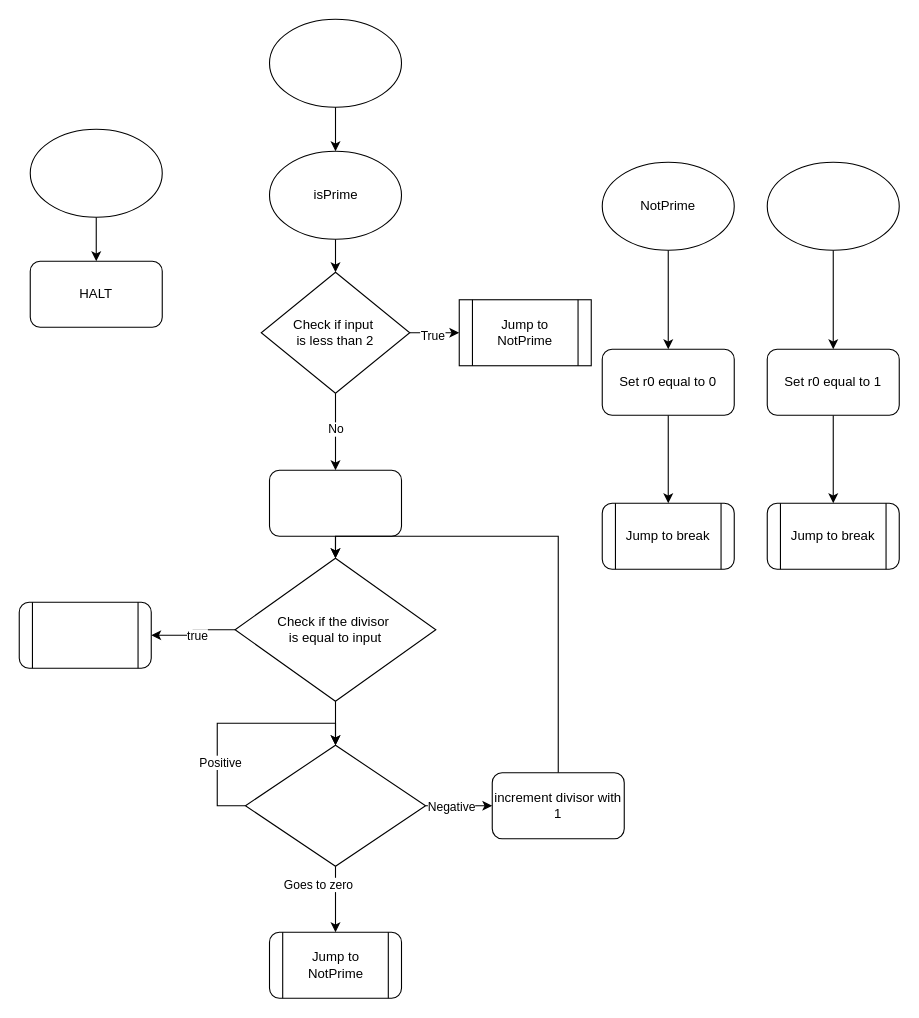
Some shapes in this 919 by 1018 pixel diagram are drawn without their labels. Here are the shapes that lost their labels. From the top down, the box of each, then its label:
(268, 18, 402, 107): Start
(29, 128, 162, 217): break
(766, 161, 899, 250): prime
(268, 469, 402, 536): Set divisor to 2
(18, 601, 151, 668): Jump to prime
(244, 744, 426, 866): Minus the divisor until either positive, negative or zero
